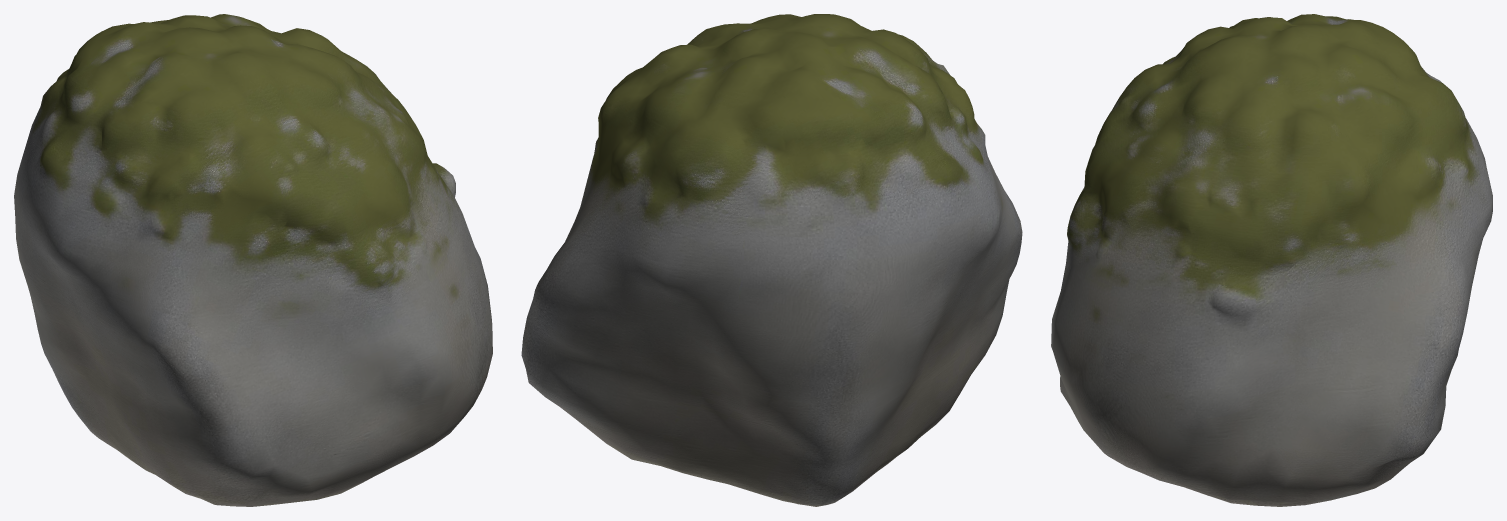
The model's file is original_glb.glb.
3 renders of one model, left to right at view 1: azimuth 30°, elevation 25°; view 2: azimuth 150°, elevation 25°; view 3: azimuth 270°, elevation 25°, orthographic. The views are drawn at different scales.
Parts seen in each view (by area): view 1: mossy boulder; view 2: mossy boulder; view 3: mossy boulder.
Part boxes in pixels (bbox=[...]): mossy boulder: bbox=[14, 14, 492, 506]; mossy boulder: bbox=[521, 14, 1022, 506]; mossy boulder: bbox=[1051, 14, 1492, 506].
Bounding box in the file's own units: 0.998 × 0.9941 × 0.9824.
Materials: 1 (1 with a texture image).
